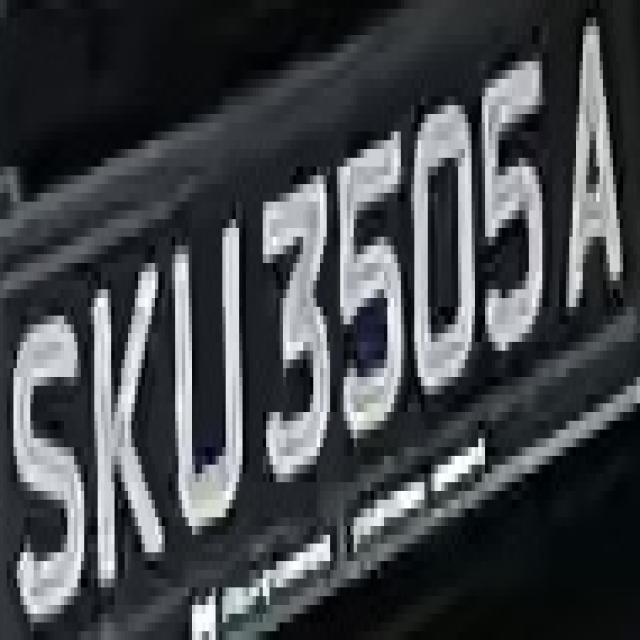0: (398, 88, 488, 430)
3: (249, 140, 340, 491)
5: (323, 105, 411, 456), (475, 35, 549, 377)
A: (546, 0, 636, 342)
K: (81, 228, 172, 587)
S: (3, 280, 91, 622)
U: (155, 193, 256, 543)
